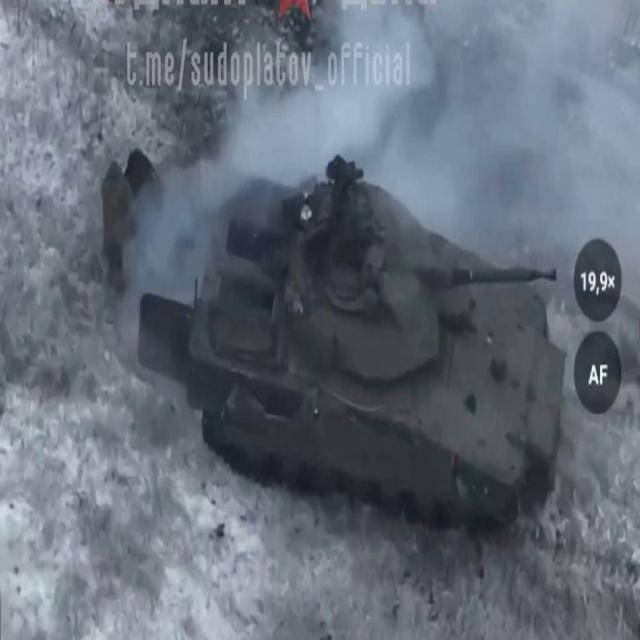AIFV: (147, 138, 568, 532)
